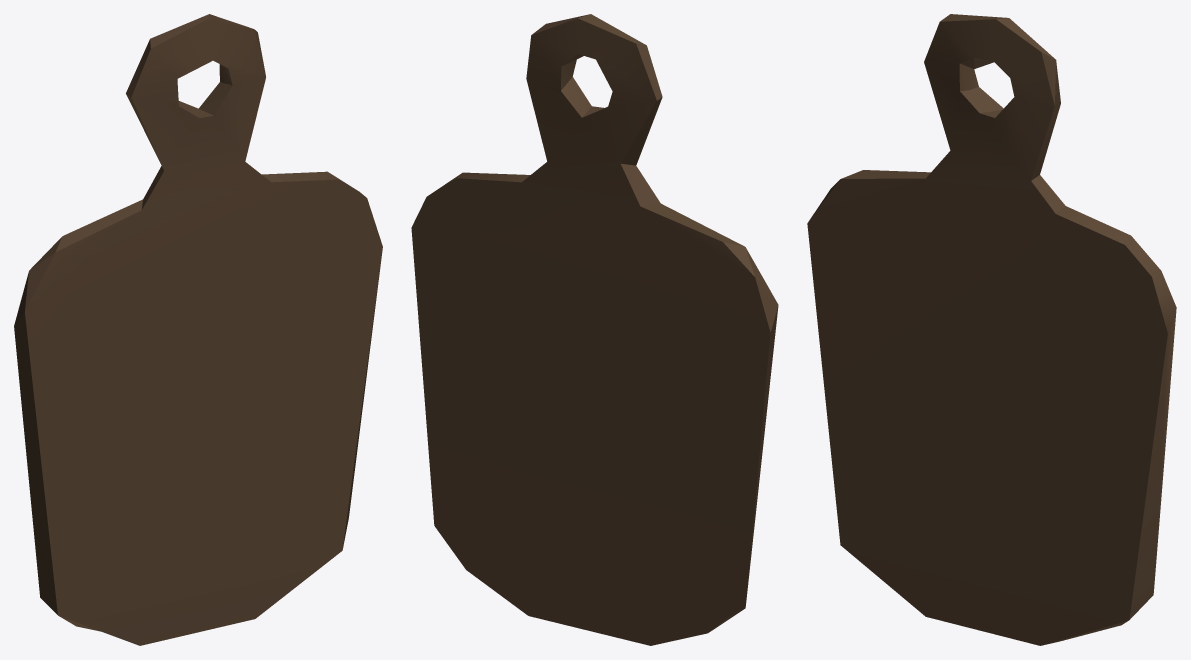
Rendered from CuttingBoardSmall.fbx.
3 renders of one model, left to right at view 1: azimuth 30°, elevation 25°; view 2: azimuth 150°, elevation 25°; view 3: azimuth 330°, elevation 25°, orthographic.
Parts seen in each view (by area): view 1: CuttingBoardSmallLowPoly; view 2: CuttingBoardSmallLowPoly; view 3: CuttingBoardSmallLowPoly.
Part boxes in pixels (x1,y1,x2,y2): CuttingBoardSmallLowPoly: [14, 14, 382, 645]; CuttingBoardSmallLowPoly: [411, 14, 778, 645]; CuttingBoardSmallLowPoly: [807, 14, 1176, 645].
Bounding box in the file's own units: 16.37 × 26.55 × 1.04.
